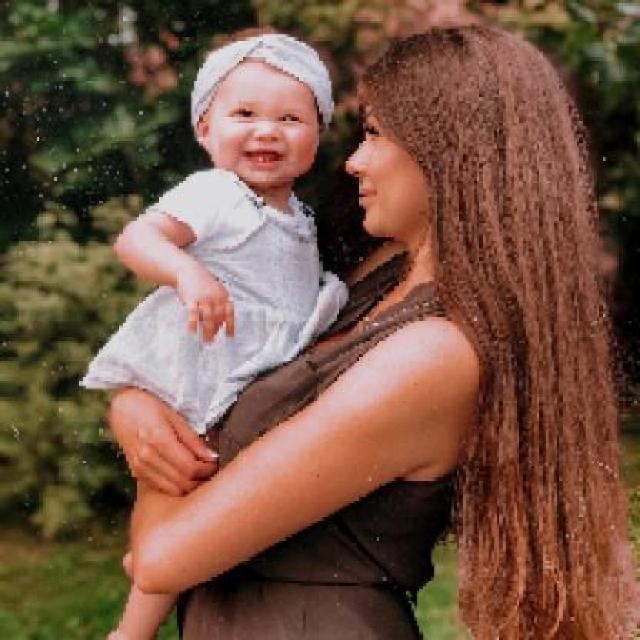child: (77, 22, 349, 638)
